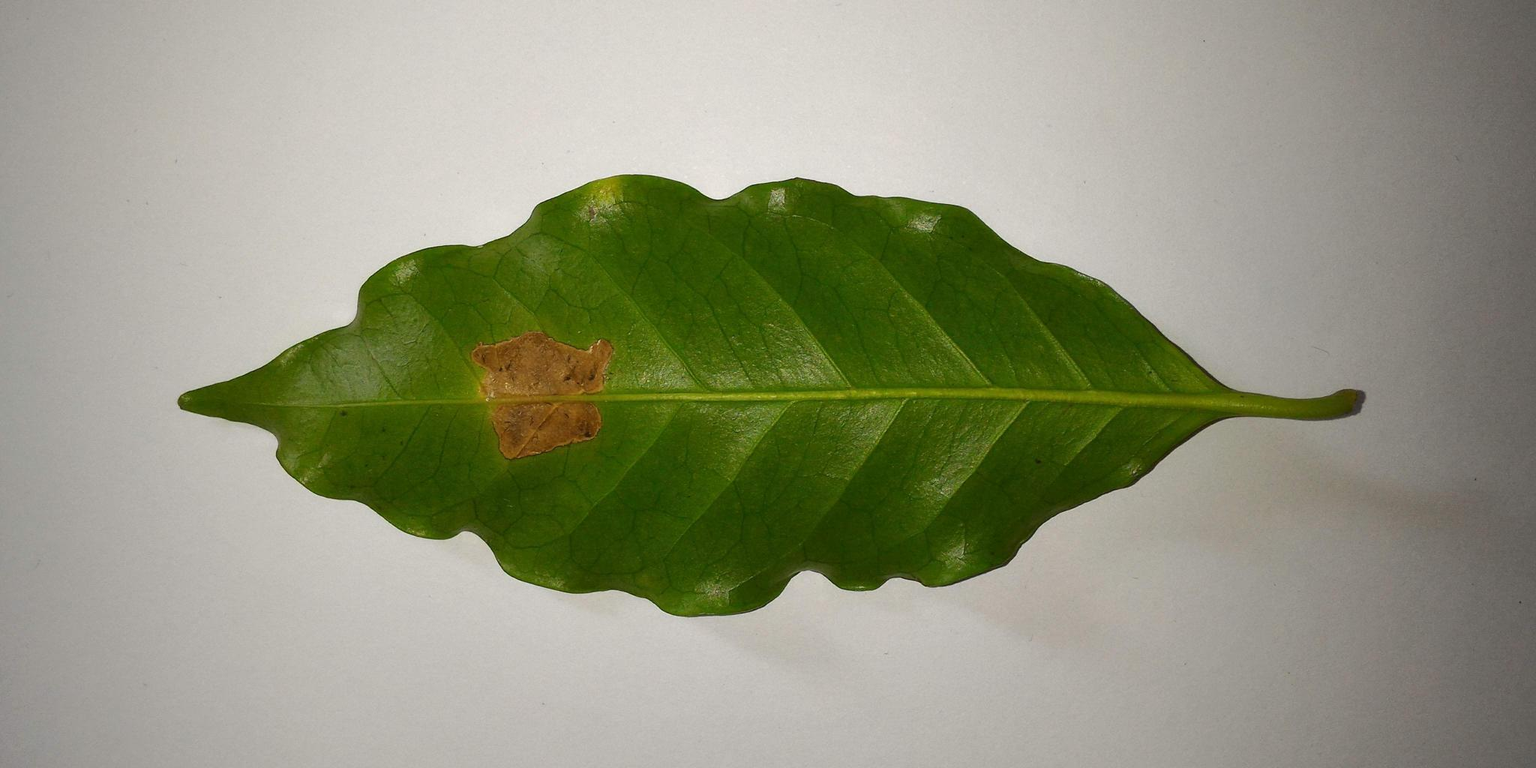Miner: (460, 326, 626, 463)
